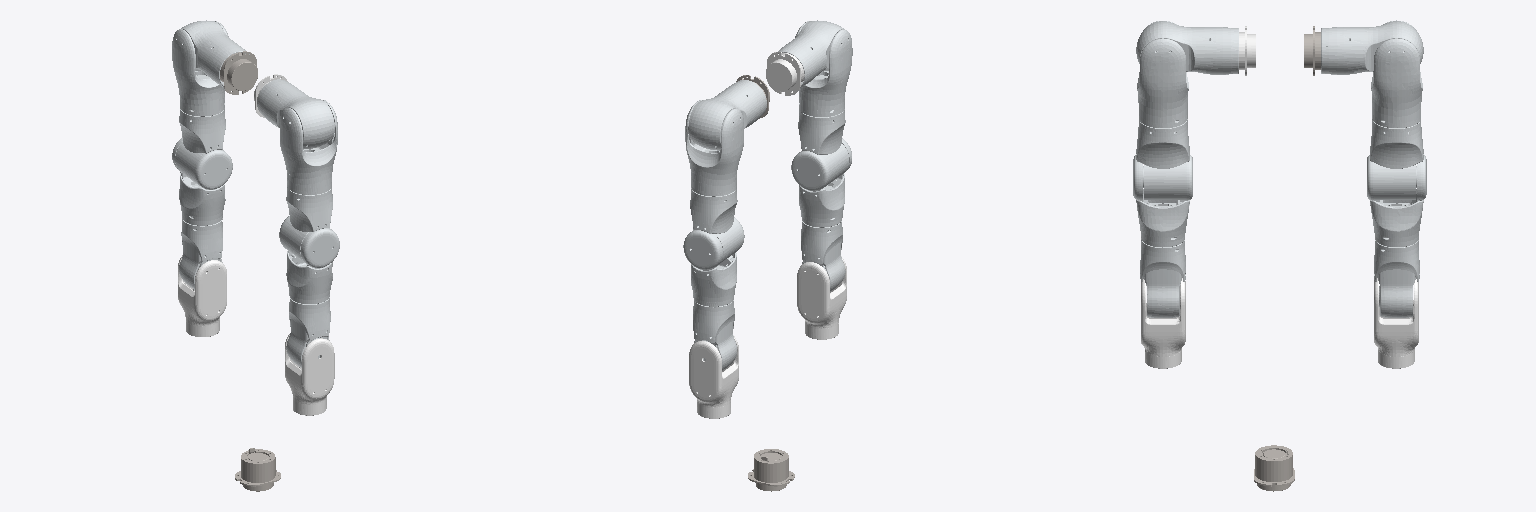
The robot description file, URDF, robot "A1_dual":
<?xml version="1.0" encoding="utf-8"?>
<!-- This URDF was automatically created by SolidWorks to URDF Exporter! Originally created by Stephen Brawner (brawner@gmail.com) 
     Commit Version: 1.6.0-4-g7f85cfe  Build Version: 1.6.7995.38578
     For more information, please see http://wiki.ros.org/sw_urdf_exporter -->
<robot
  name="A1_dual">
<mujoco>
    <compiler meshdir="../../meshes/A1_dual/" balanceinertia="true" discardvisual="false" />
  </mujoco>

    <!-- 虚拟根link (KDL兼容性) -->
  <link name="world"/>

    <!-- 虚拟根关节 -->
  <joint name="world_to_base" type="fixed">
    <parent link="world"/>
    <child link="base_link"/>
    <origin xyz="0 0 0" rpy="0 0 0"/>
  </joint>

  <link
    name="base_link">
    <inertial>
      <origin
        xyz="0.00102201775631749 0.0098303072982387 0.183397090016791"
        rpy="0 0 0" />
      <mass
        value="64.4643570459224" />
      <inertia
        ixx="4.29797927001767"
        ixy="7.03998162484851E-07"
        ixz="-0.00276639447242784"
        iyy="3.97809452117849"
        iyz="-1.51971151775614E-07"
        izz="0.744626161704809" />
    </inertial>
    <visual>
      <origin
        xyz="0 0 0"
        rpy="0 0 0" />
      <geometry>
        <mesh
          filename="package://woan_description/meshes/A1_dual/base_link.STL" />
      </geometry>
      <material
        name="">
        <color
          rgba="0.776470588235294 0.756862745098039 0.737254901960784 1" />
      </material>
    </visual>
    <collision>
      <origin
        xyz="0 0 0"
        rpy="0 0 0" />
      <geometry>
        <mesh
          filename="package://woan_description/meshes/A1_dual/base_link.STL" />
      </geometry>
    </collision>
  </link>
  <link
    name="left_base_link">
    <inertial>
      <origin
        xyz="5.52026218782066E-05 2.12826196715587E-05 0.0171427754448579"
        rpy="0 0 0" />
      <mass
        value="0.401650168942009" />
      <inertia
        ixx="0.000248236117612461"
        ixy="-1.22424408205519E-07"
        ixz="-7.9354134937987E-07"
        iyy="0.000237179758518644"
        iyz="1.57836402935068E-07"
        izz="0.000305122605170233" />
    </inertial>
    <visual>
      <origin
        xyz="0 0 0"
        rpy="0 0 0" />
      <geometry>
        <mesh
          filename="package://woan_description/meshes/A1_dual/Link_base_L.STL" />
      </geometry>
      <material
        name="">
        <color
          rgba="0.776470588235294 0.756862745098039 0.737254901960784 1" />
      </material>
    </visual>
    <collision>
      <origin
        xyz="0 0 0"
        rpy="0 0 0" />
      <geometry>
        <mesh
          filename="package://woan_description/meshes/A1_dual/Link_base_L.STL" />
      </geometry>
    </collision>
  </link>
  <joint
    name="joint_base_l"
    type="fixed">
    <origin
      xyz="0.00129998788593704 0.0658303037755022 0.786817651368357"
      rpy="-1.5707963267949 0 0" />
    <parent
      link="base_link" />
    <child
      link="left_base_link" />
    <axis
      xyz="0 0 0" />
  </joint>
  <link
    name="left_link1">
    <inertial>
      <origin
        xyz="-0.000104793909039568 0.000878025489583304 0.0937688680157419"
        rpy="0 0 0" />
      <mass
        value="0.438675872181416" />
      <inertia
        ixx="0.00060517294321352"
        ixy="3.14143376862718E-07"
        ixz="9.46425739217292E-07"
        iyy="0.000501491467720591"
        iyz="-3.30016145254686E-05"
        izz="0.00025580993277449" />
    </inertial>
    <visual>
      <origin
        xyz="0 0 0"
        rpy="0 0 0" />
      <geometry>
        <mesh
          filename="package://woan_description/meshes/A1_dual/Link_L1.STL" />
      </geometry>
      <material
        name="">
        <color
          rgba="0.898039215686275 0.917647058823529 0.929411764705882 1" />
      </material>
    </visual>
    <collision>
      <origin
        xyz="0 0 0"
        rpy="0 0 0" />
      <geometry>
        <mesh
          filename="package://woan_description/meshes/A1_dual/Link_L1.STL" />
      </geometry>
    </collision>
  </link>
  <joint
    name="joint1-a1_l"
    type="revolute">
    <origin
      xyz="0 0 0.0125"
      rpy="0 0 1.5708" />
    <parent
      link="left_base_link" />
    <child
      link="left_link1" />
    <axis
      xyz="0 0 1" />
    <limit
      lower="-3.14"
      upper="1.04"
      effort="0"
      velocity="0" />
  </joint>
  <link
    name="left_link2">
    <inertial>
      <origin
        xyz="4.66303482249408E-05 -0.0610765811025605 0.00481122218899703"
        rpy="0 0 0" />
      <mass
        value="0.387770755219132" />
      <inertia
        ixx="0.000597204372907025"
        ixy="8.3676342009039E-07"
        ixz="-2.69873967537212E-08"
        iyy="0.000348292487571024"
        iyz="-2.93717934653094E-05"
        izz="0.000403661570691348" />
    </inertial>
    <visual>
      <origin
        xyz="0 0 0"
        rpy="0 0 0" />
      <geometry>
        <mesh
          filename="package://woan_description/meshes/A1_dual/Link_L2.STL" />
      </geometry>
      <material
        name="">
        <color
          rgba="0.898039215686275 0.917647058823529 0.929411764705882 1" />
      </material>
    </visual>
    <collision>
      <origin
        xyz="0 0 0"
        rpy="0 0 0" />
      <geometry>
        <mesh
          filename="package://woan_description/meshes/A1_dual/Link_L2.STL" />
      </geometry>
    </collision>
  </link>
  <joint
    name="joint2-a1_l"
    type="revolute">
    <origin
      xyz="0 0 0.12744999999999"
      rpy="1.57079632679502 -1.5707963267949 0" />
    <parent
      link="left_link1" />
    <child
      link="left_link2" />
    <axis
      xyz="0 0 1" />
    <limit
      lower="-0.26"
      upper="3.14"
      effort="0"
      velocity="0" />
  </joint>
  <link
    name="left_link3">
    <inertial>
      <origin
        xyz="1.43987309591522E-05 0.00178404133280444 0.109669668659996"
        rpy="0 0 0" />
      <mass
        value="0.407125793506889" />
      <inertia
        ixx="0.000446520666780017"
        ixy="-8.24275545731337E-09"
        ixz="1.61110520939152E-07"
        iyy="0.000343044757246363"
        iyz="-1.30123176926368E-05"
        izz="0.000286204871222088" />
    </inertial>
    <visual>
      <origin
        xyz="0 0 0"
        rpy="0 0 0" />
      <geometry>
        <mesh
          filename="package://woan_description/meshes/A1_dual/Link_L3.STL" />
      </geometry>
      <material
        name="">
        <color
          rgba="0.898039215686275 0.917647058823529 0.929411764705882 1" />
      </material>
    </visual>
    <collision>
      <origin
        xyz="0 0 0"
        rpy="0 0 0" />
      <geometry>
        <mesh
          filename="package://woan_description/meshes/A1_dual/Link_L3.STL" />
      </geometry>
    </collision>
  </link>
  <joint
    name="joint3-a1_l"
    type="revolute">
    <origin
      xyz="0 -0.0932499999999344 -0.000100000000084434"
      rpy="1.5707963267949 -1.5707963267949 0" />
    <parent
      link="left_link2" />
    <child
      link="left_link3" />
    <axis
      xyz="0 0 1" />
    <limit
      lower="-2.758"
      upper="2.758"
      effort="0"
      velocity="0" />
  </joint>
  <link
    name="left_link4">
    <inertial>
      <origin
        xyz="-9.99808131922338E-07 0.0625047132640995 0.0055570435534979"
        rpy="0 0 0" />
      <mass
        value="0.252142897202372" />
      <inertia
        ixx="0.000178779070280237"
        ixy="-6.97346977234478E-09"
        ixz="-7.78451594087103E-10"
        iyy="0.000146134678616042"
        iyz="3.30147349592292E-05"
        izz="0.000165597697680657" />
    </inertial>
    <visual>
      <origin
        xyz="0 0 0"
        rpy="0 0 0" />
      <geometry>
        <mesh
          filename="package://woan_description/meshes/A1_dual/Link_L4.STL" />
      </geometry>
      <material
        name="">
        <color
          rgba="0.898039215686275 0.917647058823529 0.929411764705882 1" />
      </material>
    </visual>
    <collision>
      <origin
        xyz="0 0 0"
        rpy="0 0 0" />
      <geometry>
        <mesh
          filename="package://woan_description/meshes/A1_dual/Link_L4.STL" />
      </geometry>
    </collision>
  </link>
  <joint
    name="joint4-a1_l"
    type="revolute">
    <origin
      xyz="0 -0.000999999996676215 0.140249999995695"
      rpy="1.57079632678358 0 6.73358220455809E-05" />
    <parent
      link="left_link3" />
    <child
      link="left_link4" />
    <axis
      xyz="0 0 1" />
    <limit
      lower="-1.92"
      upper="1.92"
      effort="0"
      velocity="0" />
  </joint>
  <link
    name="left_link5">
    <inertial>
      <origin
        xyz="2.1819607573044E-06 0.000940045309240384 0.0983077176130555"
        rpy="0 0 0" />
      <mass
        value="0.333953527048094" />
      <inertia
        ixx="0.000324219442352689"
        ixy="-1.17918293650171E-09"
        ixz="-7.21118252753538E-08"
        iyy="0.000299078218859742"
        iyz="5.79241839852752E-06"
        izz="0.000161241194938864" />
    </inertial>
    <visual>
      <origin
        xyz="0 0 0"
        rpy="0 0 0" />
      <geometry>
        <mesh
          filename="package://woan_description/meshes/A1_dual/Link_L5.STL" />
      </geometry>
      <material
        name="">
        <color
          rgba="0.898039215686275 0.917647058823529 0.929411764705882 1" />
      </material>
    </visual>
    <collision>
      <origin
        xyz="0 0 0"
        rpy="0 0 0" />
      <geometry>
        <mesh
          filename="package://woan_description/meshes/A1_dual/Link_L5.STL" />
      </geometry>
    </collision>
  </link>
  <joint
    name="joint5-a1_l"
    type="revolute">
    <origin
      xyz="0 0.08800000000195 -0.00100000000141642"
      rpy="-1.57079632679444 0 0" />
    <parent
      link="left_link4" />
    <child
      link="left_link5" />
    <axis
      xyz="0 0 1" />
    <limit
      lower="-2.758"
      upper="2.758"
      effort="0"
      velocity="0" />
  </joint>
  <link
    name="left_link6">
    <inertial>
      <origin
        xyz="-1.41083567195443E-05 -0.0616500007920047 0.00592126579182656"
        rpy="0 0 0" />
      <mass
        value="0.289938784061927" />
      <inertia
        ixx="0.000346578289881221"
        ixy="-3.69413578027763E-07"
        ixz="1.71707534440889E-07"
        iyy="0.000183154957217547"
        iyz="-3.25615026642569E-05"
        izz="0.000268358636952706" />
    </inertial>
    <visual>
      <origin
        xyz="0 0 0"
        rpy="0 0 0" />
      <geometry>
        <mesh
          filename="package://woan_description/meshes/A1_dual/Link_L6.STL" />
      </geometry>
      <material
        name="">
        <color
          rgba="1 1 1 1" />
      </material>
    </visual>
    <collision>
      <origin
        xyz="0 0 0"
        rpy="0 0 0" />
      <geometry>
        <mesh
          filename="package://woan_description/meshes/A1_dual/Link_L6.STL" />
      </geometry>
    </collision>
  </link>
  <joint
    name="joint6-a1_l"
    type="revolute">
    <origin
      xyz="0 0.000499999999968581 0.133000000000029"
      rpy="-1.57079632679557 0 0" />
    <parent
      link="left_link5" />
    <child
      link="left_link6" />
    <axis
      xyz="0 0 1" />
    <limit
      lower="-1.57"
      upper="1.57"
      effort="0"
      velocity="0" />
  </joint>
  <link
    name="left_link7">
    <inertial>
      <origin
        xyz="6.65807920122575E-10 -0.00220208936547997 0.00293052049190778"
        rpy="0 0 0" />
      <mass
        value="0.017750642712371" />
      <inertia
        ixx="2.81905933094713E-06"
        ixy="5.76330259752886E-14"
        ixz="-2.02477989972932E-14"
        iyy="1.89453432186468E-06"
        iyz="2.22904228611337E-09"
        izz="4.60994189557911E-06" />
    </inertial>
    <visual>
      <origin
        xyz="0 0 0"
        rpy="0 0 0" />
      <geometry>
        <mesh
          filename="package://woan_description/meshes/A1_dual/Link_L7.STL" />
      </geometry>
      <material
        name="">
        <color
          rgba="0.898039215686275 0.917647058823529 0.929411764705882 1" />
      </material>
    </visual>
    <collision>
      <origin
        xyz="0 0 0"
        rpy="0 0 0" />
      <geometry>
        <mesh
          filename="package://woan_description/meshes/A1_dual/Link_L7.STL" />
      </geometry>
    </collision>
  </link>
  <joint
    name="joint7-a1_l"
    type="revolute">
    <origin
      xyz="0 -0.11200000000003 0.000249999999859224"
      rpy="1.57079632679556 6.73358224024899E-05 0" />
    <parent
      link="left_link6" />
    <child
      link="left_link7" />
    <axis
      xyz="0 0 1" />
    <limit
      lower="-2.758"
      upper="2.758"
      effort="0"
      velocity="0" />
  </joint>
  <link
    name="right_base_link">
    <inertial>
      <origin
        xyz="2.13344287977909E-05 5.52115991738867E-05 0.0171427944780142"
        rpy="0 0 0" />
      <mass
        value="0.401649629361067" />
      <inertia
        ixx="0.000237179582900665"
        ixy="-1.22282445342036E-07"
        ixz="1.58190141064157E-07"
        iyy="0.000248235159238422"
        iyz="-7.93479798945354E-07"
        izz="0.000305121782839553" />
    </inertial>
    <visual>
      <origin
        xyz="0 0 0"
        rpy="0 0 0" />
      <geometry>
        <mesh
          filename="package://woan_description/meshes/A1_dual/Link_base_R.STL" />
      </geometry>
      <material
        name="">
        <color
          rgba="1 1 1 1" />
      </material>
    </visual>
    <collision>
      <origin
        xyz="0 0 0"
        rpy="0 0 0" />
      <geometry>
        <mesh
          filename="package://woan_description/meshes/A1_dual/Link_base_R.STL" />
      </geometry>
    </collision>
  </link>
  <joint
    name="joint_base_R"
    type="fixed">
    <origin
      xyz="0.00129998788592377 -0.0461696962244978 0.786817651368381"
      rpy="1.5707963267949 1.5707963267949 0" />
    <parent
      link="base_link" />
    <child
      link="right_base_link" />
    <axis
      xyz="0 0 0" />
  </joint>
  <link
    name="right_link1">
    <inertial>
      <origin
        xyz="0.000528701384746211 0.000691059523307228 0.0930148088752137"
        rpy="0 0 0" />
      <mass
        value="0.445123480651538" />
      <inertia
        ixx="0.00062026900594517"
        ixy="-1.78291817213527E-07"
        ixz="1.39375528170231E-07"
        iyy="0.000515290876046098"
        iyz="-3.68477334539704E-05"
        izz="0.00025747618201433" />
    </inertial>
    <visual>
      <origin
        xyz="0 0 0"
        rpy="0 0 0" />
      <geometry>
        <mesh
          filename="package://woan_description/meshes/A1_dual/Link_R1.STL" />
      </geometry>
      <material
        name="">
        <color
          rgba="0.898039215686275 0.917647058823529 0.929411764705882 1" />
      </material>
    </visual>
    <collision>
      <origin
        xyz="0 0 0"
        rpy="0 0 0" />
      <geometry>
        <mesh
          filename="package://woan_description/meshes/A1_dual/Link_R1.STL" />
      </geometry>
    </collision>
  </link>
  <joint
    name="joint1-a1_r"
    type="revolute">
    <origin
      xyz="0 0 0.0125"
      rpy="0 0 -3.14159265358979" />
    <parent
      link="right_base_link" />
    <child
      link="right_link1" />
    <axis
      xyz="0 0 1" />
    <limit
      lower="-1.04"
      upper="3.14"
      effort="0"
      velocity="0" />
  </joint>
  <link
    name="right_link2">
    <inertial>
      <origin
        xyz="-4.79251882686271E-05 -0.0610748205842253 0.00491189316430291"
        rpy="0 0 0" />
      <mass
        value="0.387804299075862" />
      <inertia
        ixx="0.000597196184278382"
        ixy="-8.33624572900862E-07"
        ixz="1.41888704058552E-08"
        iyy="0.000348285614510568"
        iyz="-2.93681671030129E-05"
        izz="0.000403678012606386" />
    </inertial>
    <visual>
      <origin
        xyz="0 0 0"
        rpy="0 0 0" />
      <geometry>
        <mesh
          filename="package://woan_description/meshes/A1_dual/Link_R2.STL" />
      </geometry>
      <material
        name="">
        <color
          rgba="0.898039215686275 0.917647058823529 0.929411764705882 1" />
      </material>
    </visual>
    <collision>
      <origin
        xyz="0 0 0"
        rpy="0 0 0" />
      <geometry>
        <mesh
          filename="package://woan_description/meshes/A1_dual/Link_R2.STL" />
      </geometry>
    </collision>
  </link>
  <joint
    name="joint2-a1_r"
    type="revolute">
    <origin
      xyz="0 0 0.12745"
      rpy="1.5708 1.5708 0" />
    <parent
      link="right_link1" />
    <child
      link="right_link2" />
    <axis
      xyz="0 0 1" />
    <limit
      lower="-3.14"
      upper="0.26"
      effort="0"
      velocity="0" />
  </joint>
  <link
    name="right_link3">
    <inertial>
      <origin
        xyz="-1.41791339719967E-05 -0.00178417845474382 0.109669668671437"
        rpy="0 0 0" />
      <mass
        value="0.407125793860475" />
      <inertia
        ixx="0.000446520666223513"
        ixy="-1.52102569119977E-08"
        ixz="-1.60234361204654E-07"
        iyy="0.000343044759489895"
        iyz="1.30123273479532E-05"
        izz="0.00028620487178606" />
    </inertial>
    <visual>
      <origin
        xyz="0 0 0"
        rpy="0 0 0" />
      <geometry>
        <mesh
          filename="package://woan_description/meshes/A1_dual/Link_R3.STL" />
      </geometry>
      <material
        name="">
        <color
          rgba="0.898039215686275 0.917647058823529 0.929411764705882 1" />
      </material>
    </visual>
    <collision>
      <origin
        xyz="0 0 0"
        rpy="0 0 0" />
      <geometry>
        <mesh
          filename="package://woan_description/meshes/A1_dual/Link_R3.STL" />
      </geometry>
    </collision>
  </link>
  <joint
    name="joint3-a1_r"
    type="revolute">
    <origin
      xyz="0 -0.0932500000000608 0"
      rpy="1.57079632679489 -1.5707963267949 0" />
    <parent
      link="right_link2" />
    <child
      link="right_link3" />
    <axis
      xyz="0 0 1" />
    <limit
      lower="-2.758"
      upper="2.758"
      effort="0"
      velocity="0" />
  </joint>
  <link
    name="right_link4">
    <inertial>
      <origin
        xyz="4.77747493505523E-07 -0.062504713242633 0.00555704355217521"
        rpy="0 0 0" />
      <mass
        value="0.252142897287996" />
      <inertia
        ixx="0.000178779070302145"
        ixy="-6.97347608630319E-09"
        ixz="7.78466981648755E-10"
        iyy="0.000146134678627411"
        iyz="-3.30147349555166E-05"
        izz="0.000165597697715162" />
    </inertial>
    <visual>
      <origin
        xyz="0 0 0"
        rpy="0 0 0" />
      <geometry>
        <mesh
          filename="package://woan_description/meshes/A1_dual/Link_R4.STL" />
      </geometry>
      <material
        name="">
        <color
          rgba="0.898039215686275 0.917647058823529 0.929411764705882 1" />
      </material>
    </visual>
    <collision>
      <origin
        xyz="0 0 0"
        rpy="0 0 0" />
      <geometry>
        <mesh
          filename="package://woan_description/meshes/A1_dual/Link_R4.STL" />
      </geometry>
    </collision>
  </link>
  <joint
    name="joint4-a1_r"
    type="revolute">
    <origin
      xyz="0 0.000999999998782225 0.140250000000101"
      rpy="-1.5707963267895 0 0" />
    <parent
      link="right_link3" />
    <child
      link="right_link4" />
    <axis
      xyz="0 0 1" />
    <limit
      lower="-1.92"
      upper="1.92"
      effort="0"
      velocity="0" />
  </joint>
  <link
    name="right_link5">
    <inertial>
      <origin
        xyz="-2.15115908300066E-06 -0.000940016433332636 0.0983077058854084"
        rpy="0 0 0" />
      <mass
        value="0.333954018530655" />
      <inertia
        ixx="0.000324220055891183"
        ixy="-1.16857830776839E-09"
        ixz="7.20959527290982E-08"
        iyy="0.00029907861347288"
        iyz="-5.79215640631209E-06"
        izz="0.00016124141970014" />
    </inertial>
    <visual>
      <origin
        xyz="0 0 0"
        rpy="0 0 0" />
      <geometry>
        <mesh
          filename="package://woan_description/meshes/A1_dual/Link_R5.STL" />
      </geometry>
      <material
        name="">
        <color
          rgba="0.898039215686275 0.917647058823529 0.929411764705882 1" />
      </material>
    </visual>
    <collision>
      <origin
        xyz="0 0 0"
        rpy="0 0 0" />
      <geometry>
        <mesh
          filename="package://woan_description/meshes/A1_dual/Link_R5.STL" />
      </geometry>
    </collision>
  </link>
  <joint
    name="joint5-a1_r"
    type="revolute">
    <origin
      xyz="0 -0.0879999999845006 -0.000999999994519968"
      rpy="1.57079632680022 0 0" />
    <parent
      link="right_link4" />
    <child
      link="right_link5" />
    <axis
      xyz="0 0 1" />
    <limit
      lower="-2.758"
      upper="2.758"
      effort="0"
      velocity="0" />
  </joint>
  <link
    name="right_link6">
    <inertial>
      <origin
        xyz="1.41062085944562E-05 0.0616500031845514 0.00517126124906842"
        rpy="0 0 0" />
      <mass
        value="0.289938829887438" />
      <inertia
        ixx="0.000346578326495133"
        ixy="-3.69437678207421E-07"
        ixz="-1.7169680677651E-07"
        iyy="0.000183154986554611"
        iyz="3.25615224017288E-05"
        izz="0.000268358656680404" />
    </inertial>
    <visual>
      <origin
        xyz="0 0 0"
        rpy="0 0 0" />
      <geometry>
        <mesh
          filename="package://woan_description/meshes/A1_dual/Link_R6.STL" />
      </geometry>
      <material
        name="">
        <color
          rgba="1 1 1 1" />
      </material>
    </visual>
    <collision>
      <origin
        xyz="0 0 0"
        rpy="0 0 0" />
      <geometry>
        <mesh
          filename="package://woan_description/meshes/A1_dual/Link_R6.STL" />
      </geometry>
    </collision>
  </link>
  <joint
    name="joint6-a1_r"
    type="revolute">
    <origin
      xyz="0 -0.000500000006067092 0.13300000000003"
      rpy="1.57079632679516 0 0" />
    <parent
      link="right_link5" />
    <child
      link="right_link6" />
    <axis
      xyz="0 0 1" />
    <limit
      lower="-1.57"
      upper="1.57"
      effort="0"
      velocity="0" />
  </joint>
  <link
    name="right_link7">
    <inertial>
      <origin
        xyz="5.62946093087923E-10 -0.00220209359026055 0.00293052216882428"
        rpy="0 0 0" />
      <mass
        value="0.0177506427123713" />
      <inertia
        ixx="2.81905933094716E-06"
        ixy="5.76415334949297E-14"
        ixz="-2.02460067093542E-14"
        iyy="1.8945343219885E-06"
        iyz="2.22911768335107E-09"
        izz="4.6099418954554E-06" />
    </inertial>
    <visual>
      <origin
        xyz="0 0 0"
        rpy="0 0 0" />
      <geometry>
        <mesh
          filename="package://woan_description/meshes/A1_dual/Link_R7.STL" />
      </geometry>
      <material
        name="">
        <color
          rgba="0.898039215686275 0.917647058823529 0.929411764705882 1" />
      </material>
    </visual>
    <collision>
      <origin
        xyz="0 0 0"
        rpy="0 0 0" />
      <geometry>
        <mesh
          filename="package://woan_description/meshes/A1_dual/Link_R7.STL" />
      </geometry>
    </collision>
  </link>
  <joint
    name="joint7-a1_r"
    type="revolute">
    <origin
      xyz="0 0.111999999999958 -0.000500000000028034"
      rpy="1.5707963267949 0 3.14159265358894" />
    <parent
      link="right_link6" />
    <child
      link="right_link7" />
    <axis
      xyz="0 0 1" />
    <limit
      lower="-2.758"
      upper="2.758"
      effort="0"
      velocity="0" />
  </joint>
</robot>

--- Facts derived from the render (not from the file) ---
The picture shows the robot from 3 angles, left to right: view 1: azimuth 30°, elevation 25°; view 2: azimuth 150°, elevation 25°; view 3: azimuth 270°, elevation 25°; orthographic projection.
Robot: A1_dual — 18 links, 17 joints (14 revolute, 3 fixed); root link world; default pose: all joints at 0.
Visible links, largest first — view 1: left_link3, right_link2, right_link4, right_link1, right_link6, left_link6, left_link2, right_link3, left_link1, left_link5, right_link5, left_link4 (+2 smaller); view 2: right_link3, left_link2, left_link4, left_link1, left_link6, right_link6, right_link2, left_link3, right_link1, right_link5, left_link5, right_link4 (+2 smaller); view 3: left_link2, right_link2, left_link3, right_link3, right_link1, left_link1, left_link5, right_link5, right_link4, left_link4, right_link6, left_link6 (+3 smaller).
Link boxes in pixels (bbox=[...]): left_link3: bbox=[175, 109, 232, 189]; right_link2: bbox=[280, 100, 337, 194]; right_link4: bbox=[286, 228, 339, 303]; right_link1: bbox=[257, 79, 334, 149]; right_link6: bbox=[285, 334, 334, 415]; left_link6: bbox=[178, 255, 226, 336]; left_link2: bbox=[172, 21, 228, 116]; right_link3: bbox=[279, 187, 332, 262]; left_link1: bbox=[181, 20, 249, 86]; left_link5: bbox=[179, 218, 222, 289]; right_link5: bbox=[286, 297, 330, 367]; left_link4: bbox=[172, 137, 225, 225]; right_link3: bbox=[791, 109, 848, 190]; left_link2: bbox=[685, 100, 743, 196]; left_link4: bbox=[683, 230, 736, 306]; left_link1: bbox=[688, 80, 766, 150]; left_link6: bbox=[689, 335, 738, 418]; right_link6: bbox=[797, 256, 846, 339]; right_link2: bbox=[795, 21, 852, 116]; left_link3: bbox=[690, 187, 744, 263]; right_link1: bbox=[778, 20, 843, 87]; right_link5: bbox=[801, 221, 845, 291]; left_link5: bbox=[693, 300, 736, 370]; right_link4: bbox=[799, 138, 851, 227]; left_link2: bbox=[1371, 20, 1422, 127]; right_link2: bbox=[1137, 21, 1188, 127]; left_link3: bbox=[1367, 119, 1423, 199]; right_link3: bbox=[1136, 119, 1192, 199]; right_link1: bbox=[1136, 21, 1238, 74]; left_link1: bbox=[1321, 21, 1423, 74]; left_link5: bbox=[1374, 240, 1419, 317]; right_link5: bbox=[1140, 240, 1185, 317]; right_link4: bbox=[1133, 155, 1189, 246]; left_link4: bbox=[1370, 155, 1426, 246]; right_link6: bbox=[1141, 278, 1185, 368]; left_link6: bbox=[1374, 278, 1418, 368].
Bounding box of the posed robot: 0.0979 × 0.4917 × 0.8476 m (x, y, z).
15 mesh visuals loaded from 17 distinct referenced files (15 binary STL); not drawn: 2 (reference not matched to a file when rendering).
